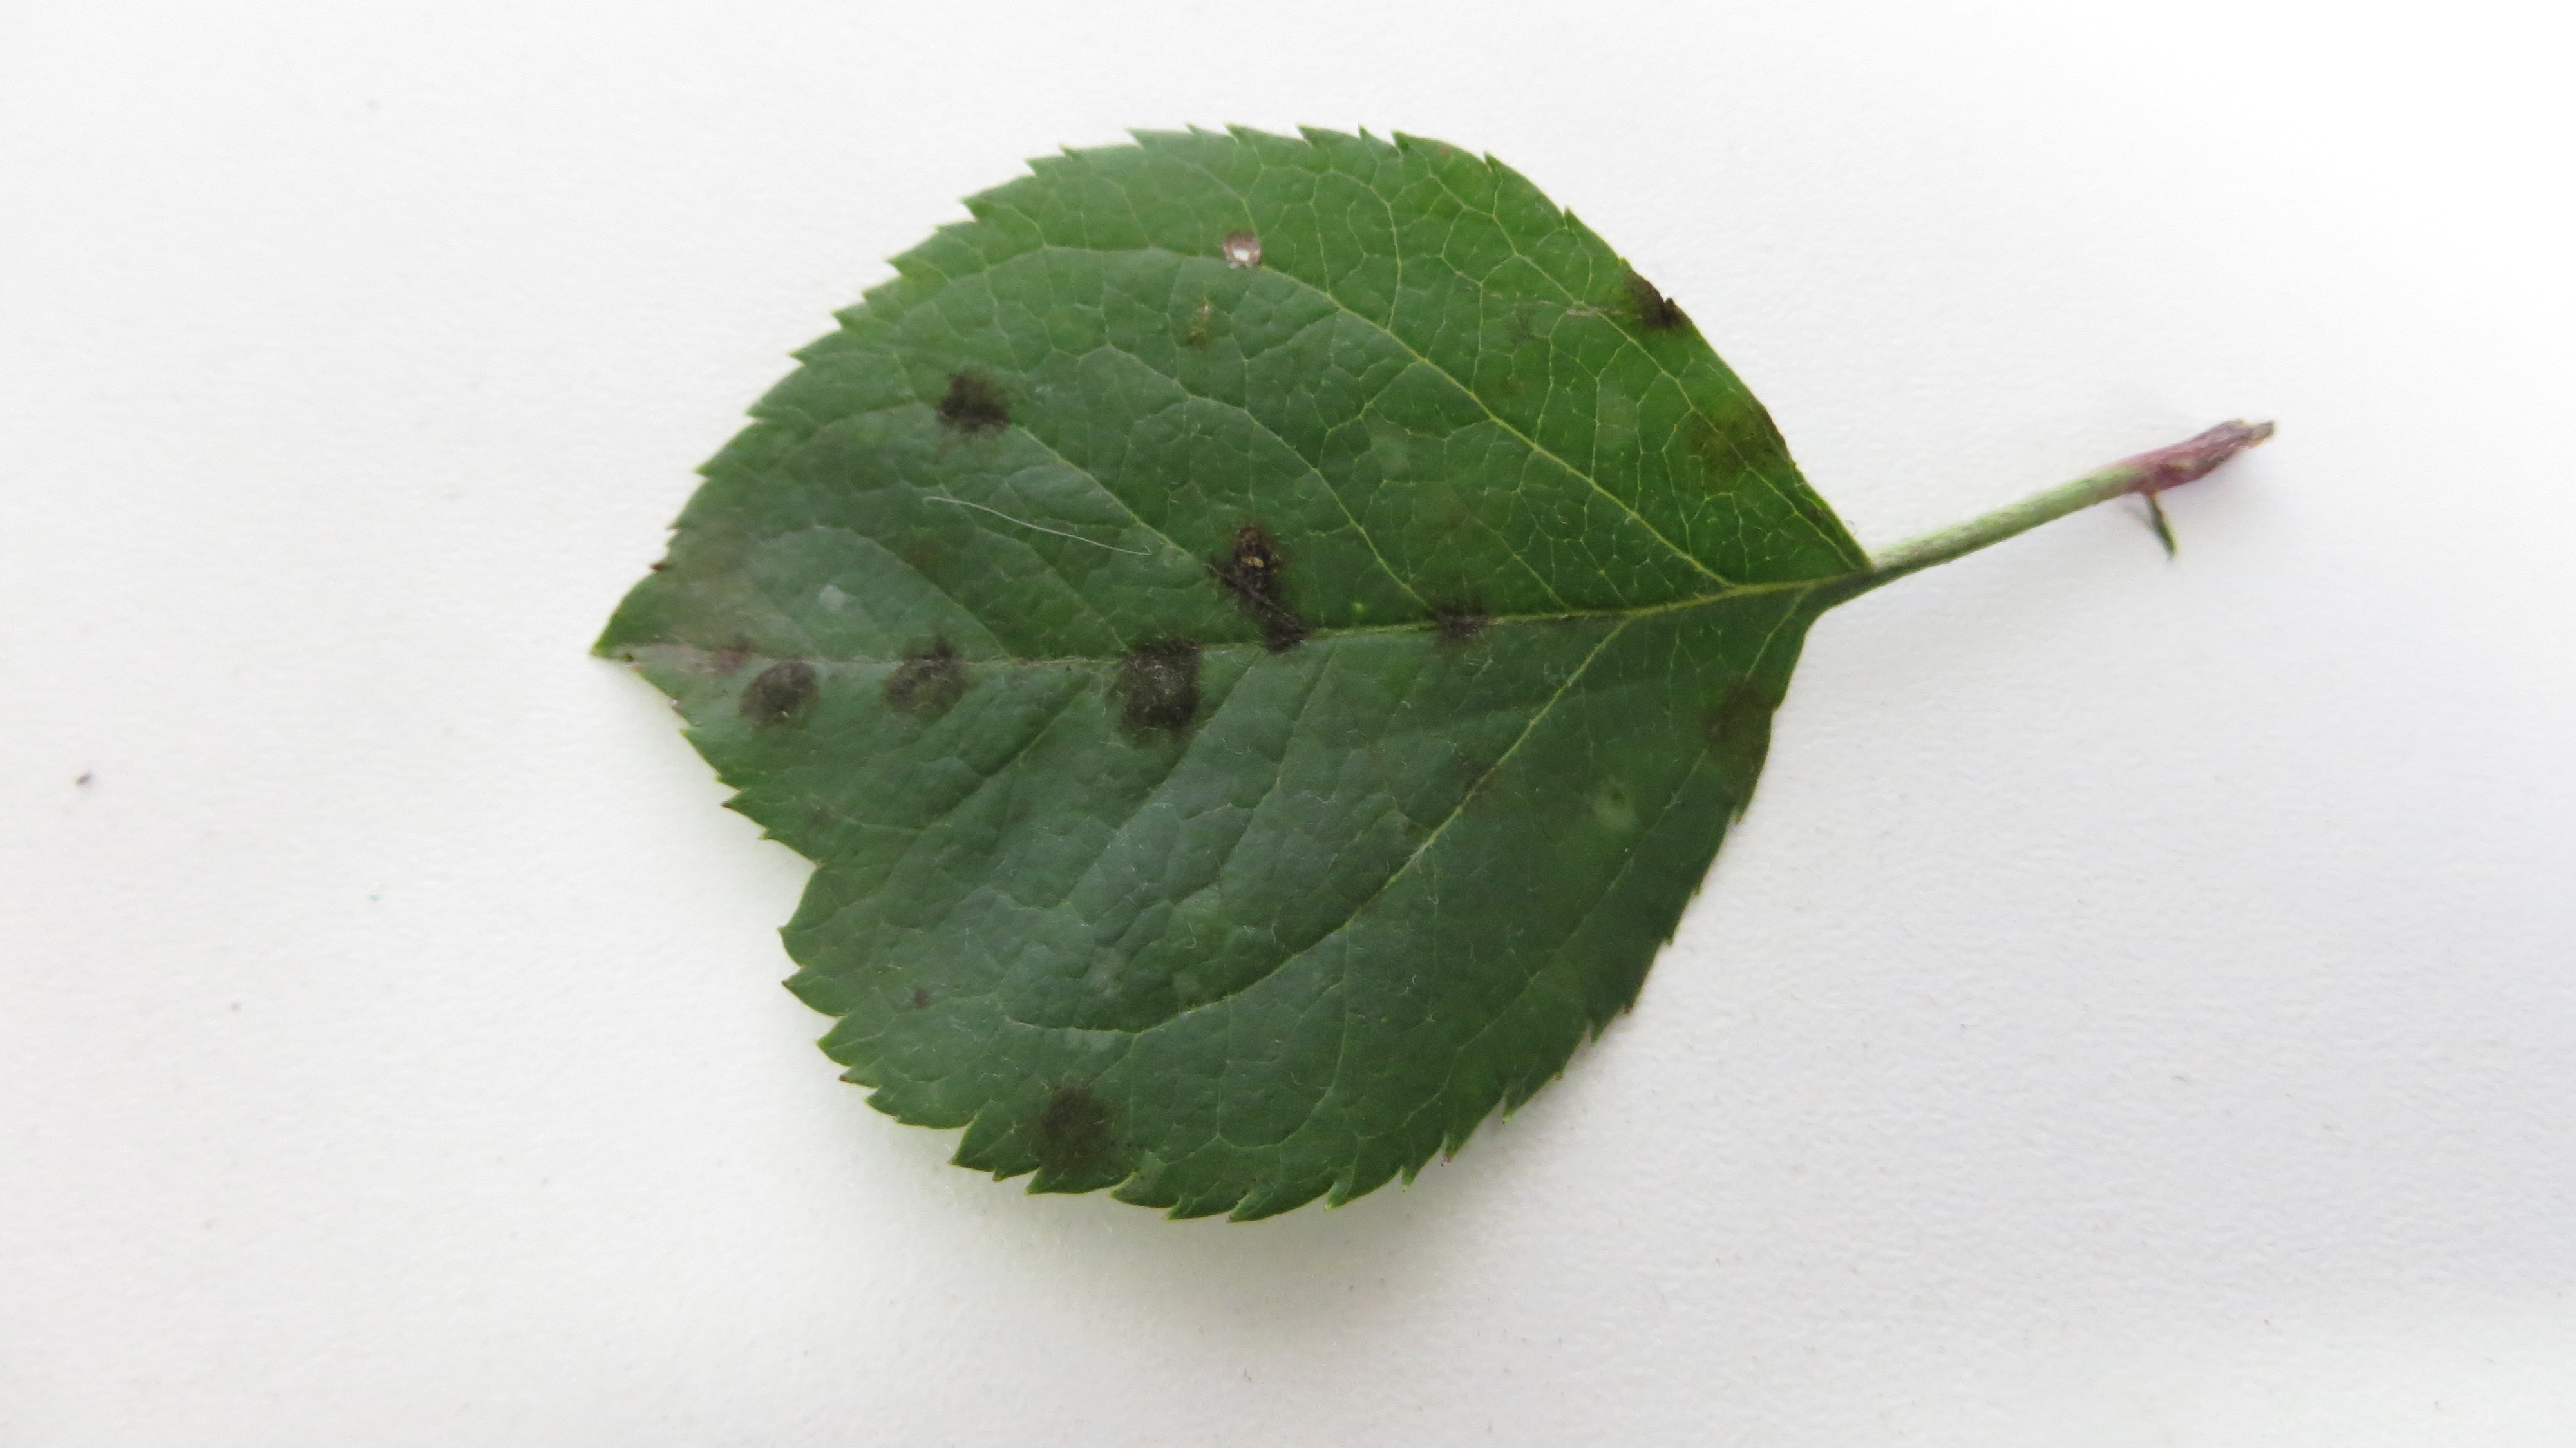sarna: (1208, 520, 1327, 683), (1083, 618, 1215, 749), (1681, 648, 1787, 800), (865, 620, 993, 736), (916, 347, 1024, 462), (1021, 1057, 1122, 1177), (1598, 255, 1713, 352), (729, 653, 830, 756), (1672, 398, 1787, 487), (1401, 570, 1507, 660), (1435, 722, 1518, 804), (1201, 212, 1274, 281)
